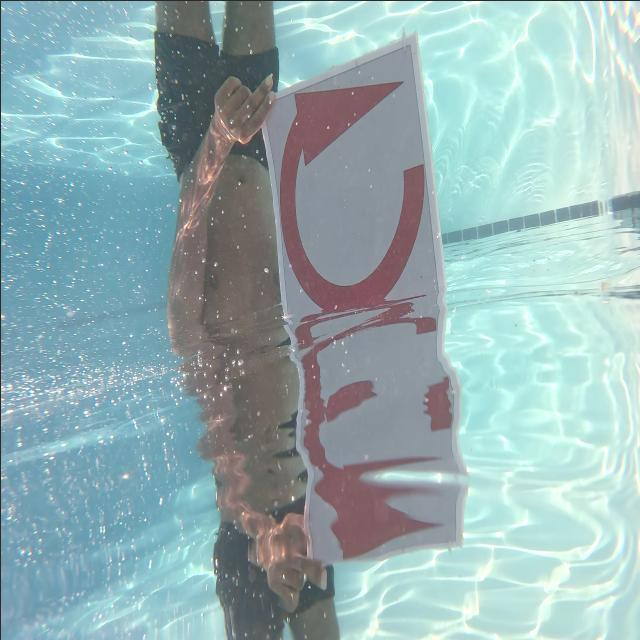red_side: (266, 46, 448, 308)
